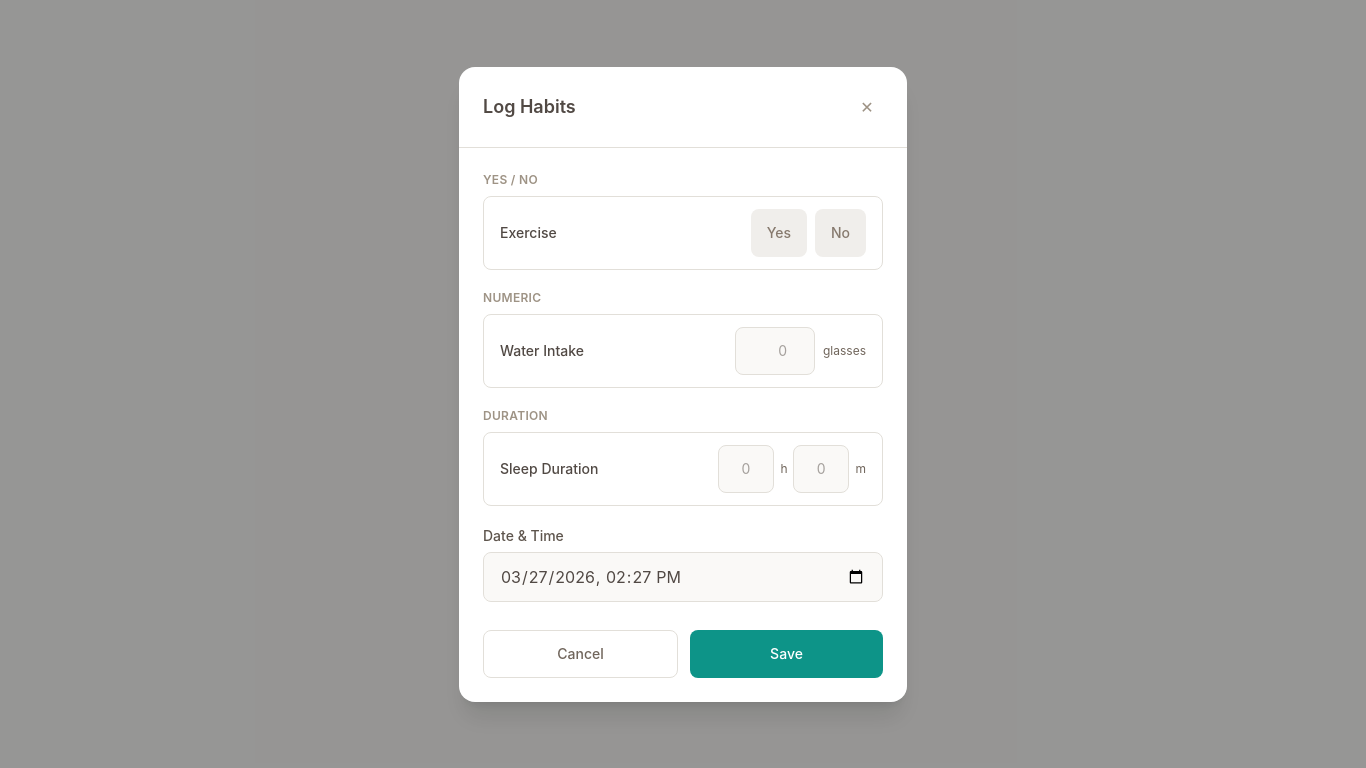
Test: HabitLogModal › shows error when no habits are filled in
Expected: the text "Exercise" is shown, [500,222,557,242]
Step 1. Click the button "Save" → click(786, 654), box [690,630,883,678]
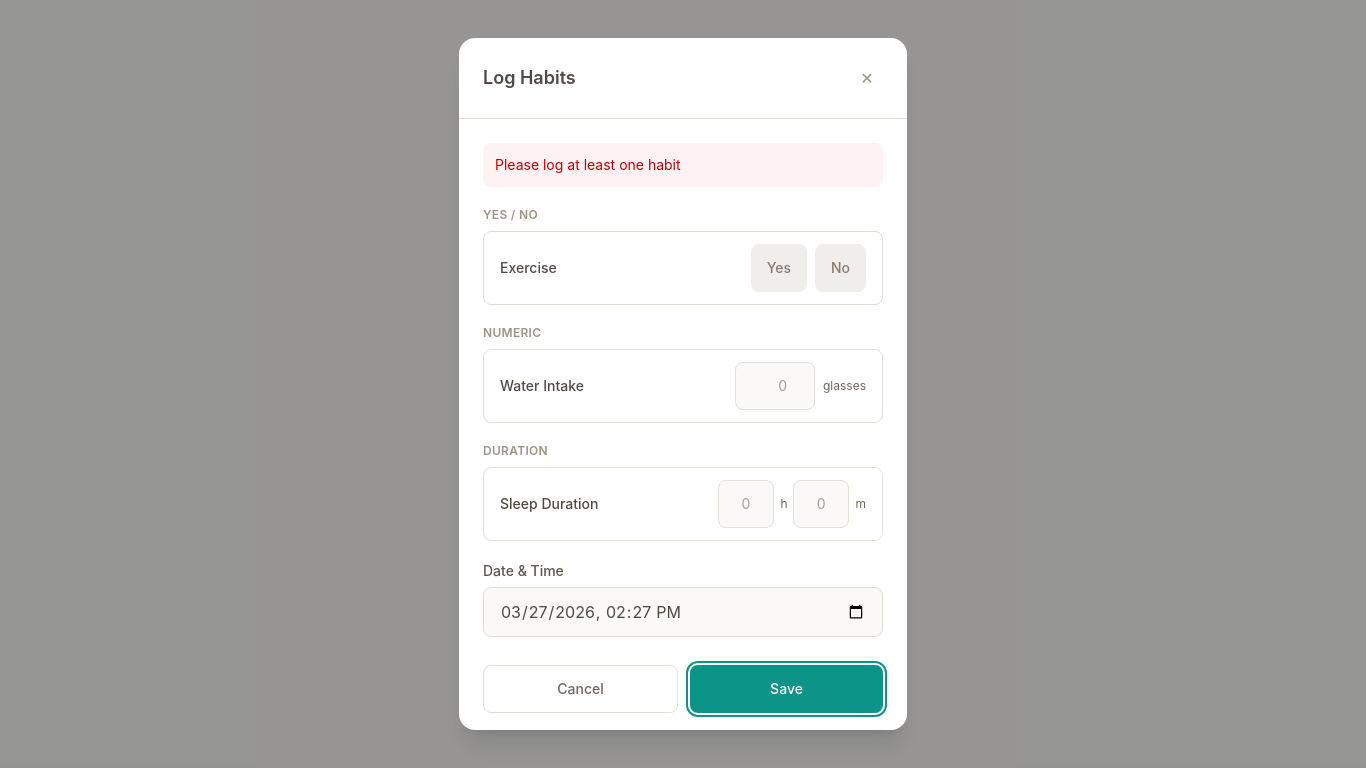
Now the text "Please log at least one habit" is shown, box [483,143,883,187]
